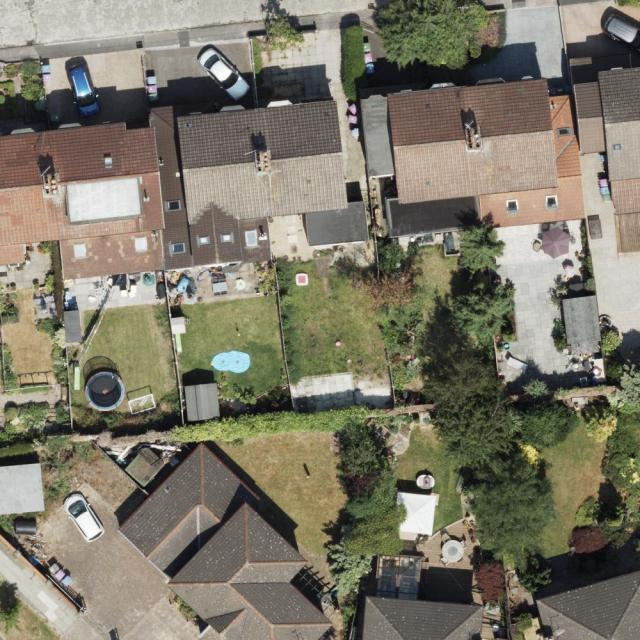roof: (0, 101, 368, 280), (359, 66, 640, 238), (117, 441, 333, 640), (361, 553, 485, 640), (537, 572, 640, 640)
skylight: (376, 555, 422, 601), (70, 241, 90, 262), (168, 240, 187, 258), (133, 235, 149, 255), (242, 229, 258, 249), (505, 198, 520, 216), (166, 198, 182, 213), (545, 194, 558, 212), (219, 231, 235, 244), (196, 234, 212, 246), (103, 155, 115, 169)
